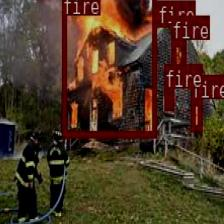fire: (60, 0, 156, 136), (170, 38, 186, 70), (190, 99, 201, 130), (156, 0, 168, 26), (164, 87, 172, 110)
